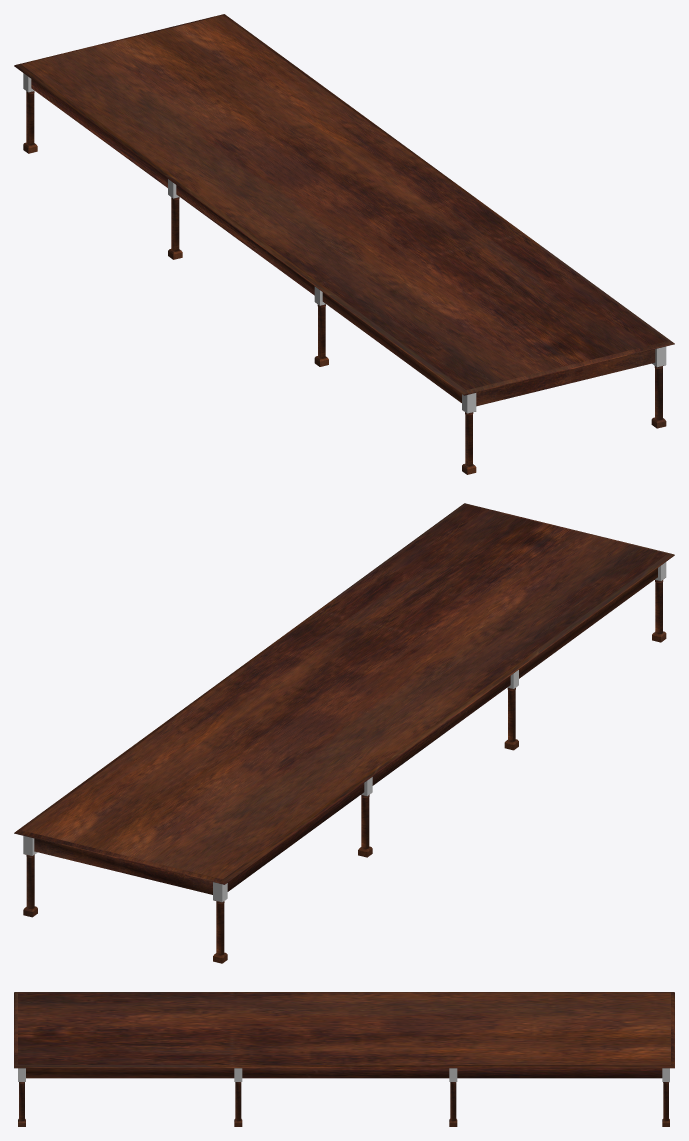
File: mesa_central_biblioteca.fbx
3 views of the same model, one above another, from view 1: azimuth 30°, elevation 25°; view 2: azimuth 150°, elevation 25°; view 3: azimuth 270°, elevation 25° (orthographic). The views are drawn at different scales.
Parts seen in each view (by area): view 1: mesa_central_biblioteca; view 2: mesa_central_biblioteca; view 3: mesa_central_biblioteca.
Boxes of the visible parts, <box> form: mesa_central_biblioteca: <box>14,14,674,474</box>; mesa_central_biblioteca: <box>14,503,674,963</box>; mesa_central_biblioteca: <box>14,992,674,1126</box>.
Size of the model in its own units: 1250 by 482 by 4624.
